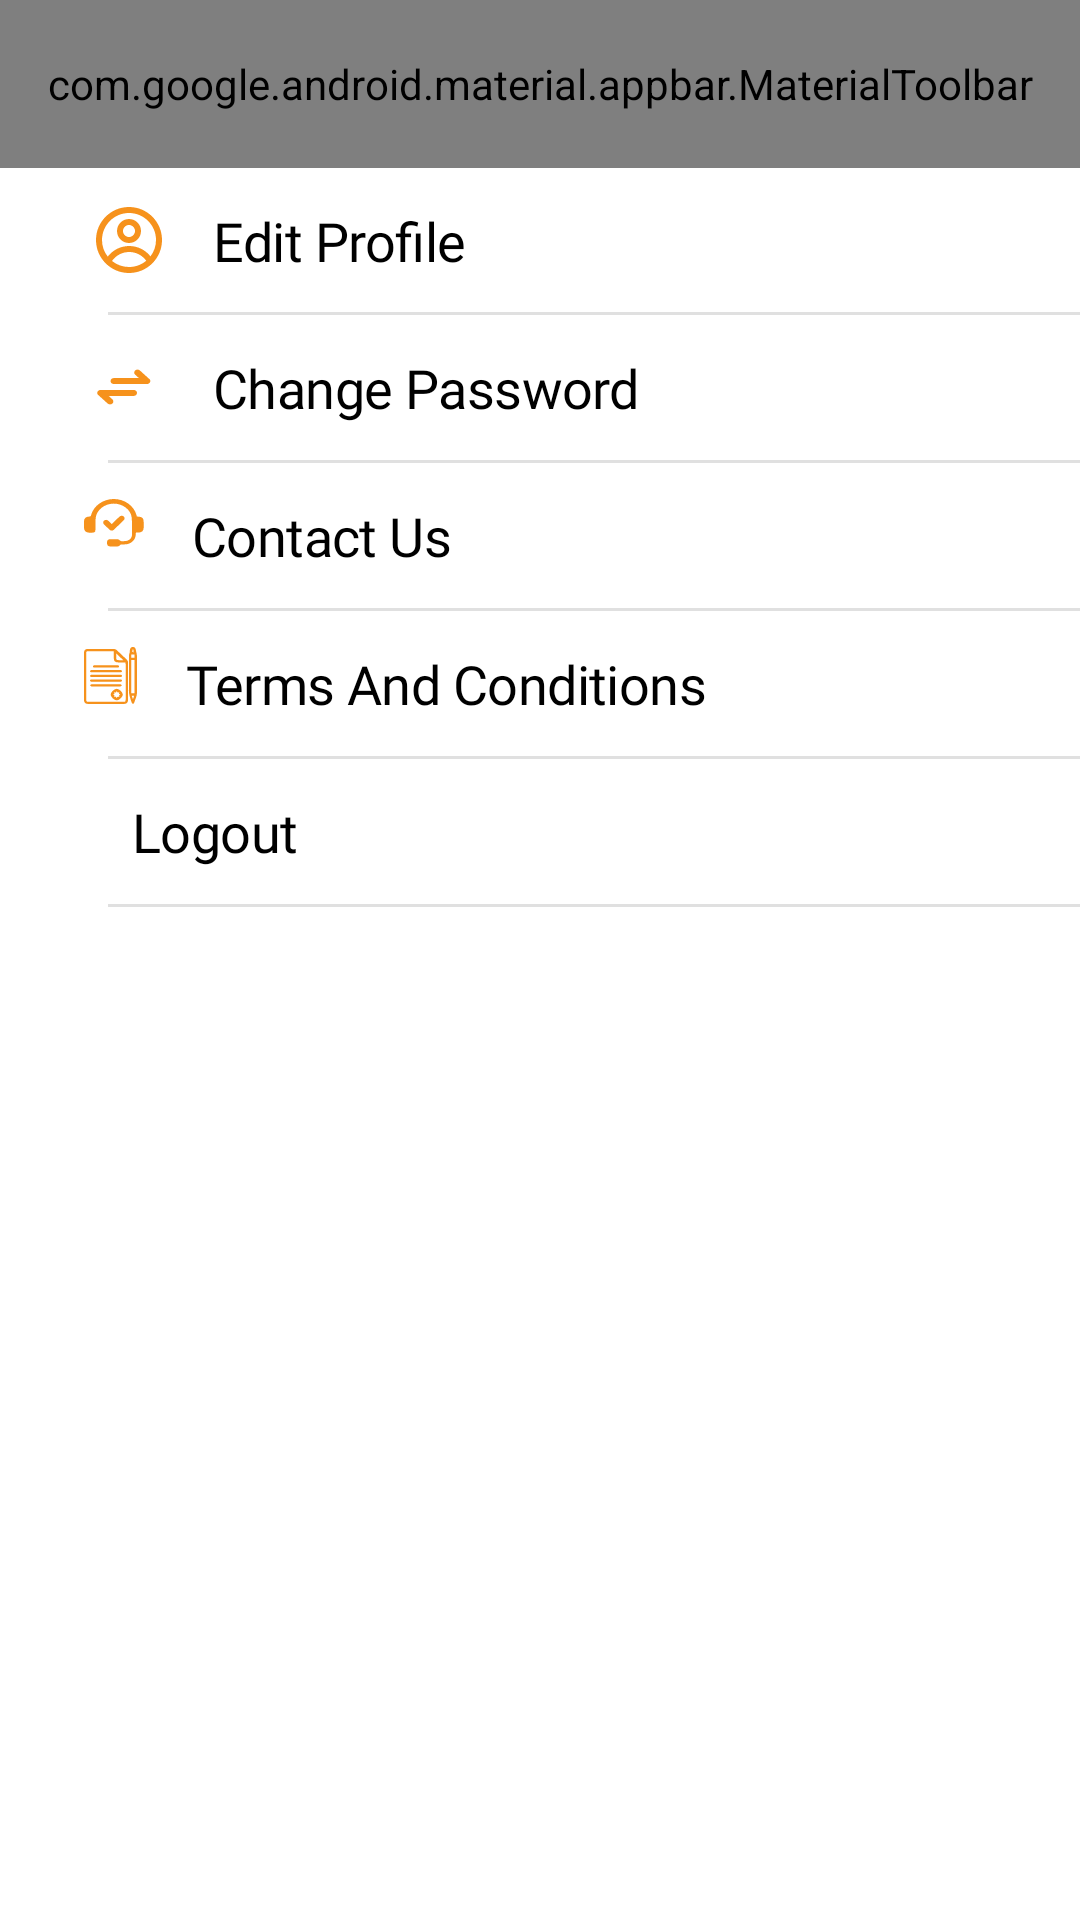

Where to tap for icons on this 1080px×1920px app screen, as [x,y]:
arrows exchange: [124,387]
